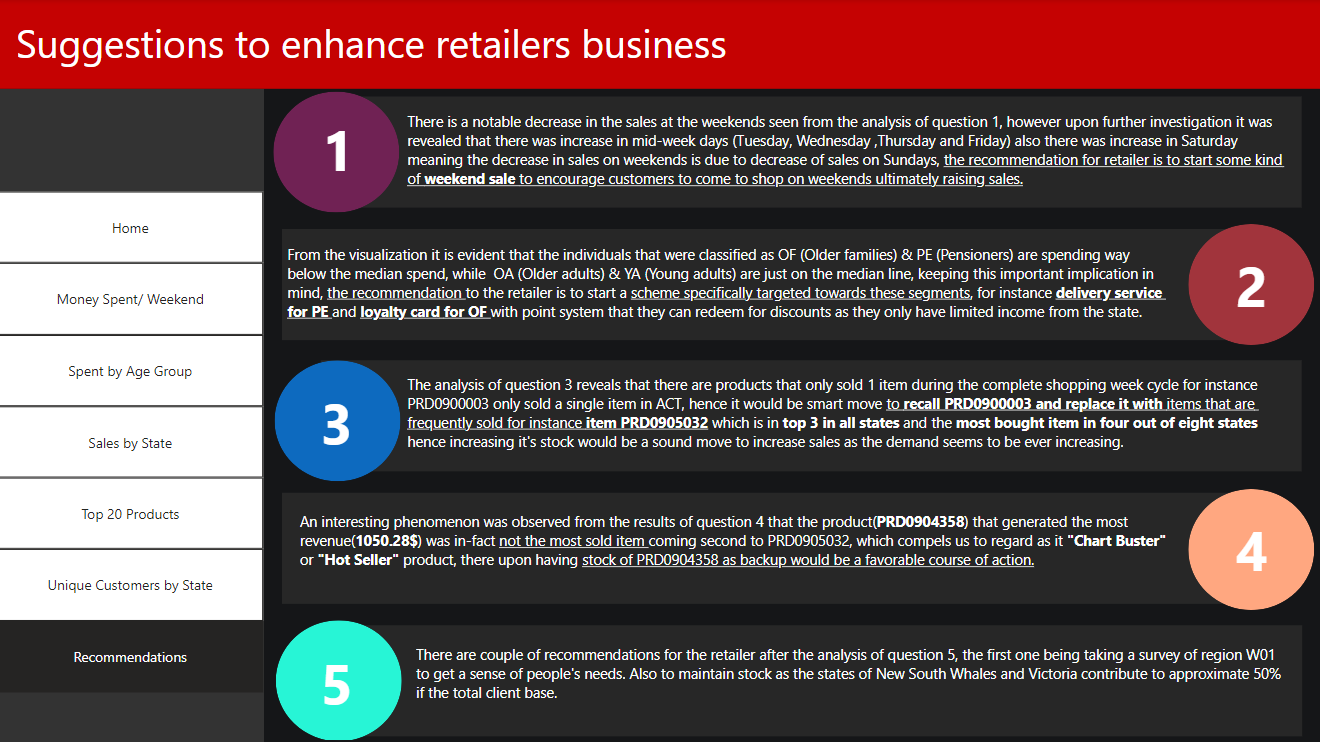

The dashboard page shown, as its layout file describes it:
{"tool":"powerbi","page":{"name":"Recommendations","canvas":[1280,720],"ordinal":6},"visuals":[{"type":"shape","box":[0,0,1279.9,86.8],"z":0},{"type":"shape","box":[0,86.8,257.9,633.2],"z":1000},{"type":"pageNavigator","box":[0,185.8,257.9,485.3],"z":2000},{"type":"textbox","box":[13.3,12.1,1245.8,74.8],"z":3000},{"type":"shape","box":[312.4,94.1,946.7,107.3],"z":4000},{"type":"shape","box":[275,221.9,947.9,107.3],"z":5000},{"type":"shape","box":[312.4,348.5,946.7,107.3],"z":6000},{"type":"shape","box":[328,604.2,931.1,107.3],"z":7000},{"type":"shape","box":[275,476.4,947.9,107.3],"z":8000},{"type":"shape","box":[266.5,89.2,121.8,117],"z":9000},{"type":"shape","box":[1149.3,217.1,121.8,117],"z":10000},{"type":"shape","box":[267.7,348.5,121.8,117],"z":11000},{"type":"shape","box":[1149.3,472.8,121.8,117],"z":12000},{"type":"shape","box":[268.9,599.4,121.8,117],"z":13000},{"type":"textbox","box":[390.8,103.7,856.3,85.6],"z":14000},{"type":"textbox","box":[275,231.6,863.5,89.2],"z":15000},{"type":"textbox","box":[390.8,357,856.3,90],"z":16000},{"type":"textbox","box":[287,489.6,851.5,85.6],"z":17000},{"type":"textbox","box":[399.2,617.5,847.8,82],"z":18000},{"type":"textbox","box":[287,103.7,84.4,82],"z":19000},{"type":"textbox","box":[285.8,617.5,84.4,82],"z":20000},{"type":"textbox","box":[1168.6,489.6,84.4,82],"z":21000},{"type":"textbox","box":[285.8,366.6,84.4,82],"z":22000},{"type":"textbox","box":[1168.6,235.2,84.4,82],"z":23000}]}

Visuals, with their boxes in screenshot pixels (x1, y1, x2, y2), scaled from the page's 1280x720 canvas onto the 1320x742 screenshot:
shape: <bbox>0, 0, 1319, 89</bbox>
shape: <bbox>0, 89, 266, 741</bbox>
pageNavigator: <bbox>0, 191, 266, 692</bbox>
textbox: <bbox>14, 12, 1298, 90</bbox>
shape: <bbox>322, 97, 1298, 208</bbox>
shape: <bbox>284, 229, 1261, 339</bbox>
shape: <bbox>322, 359, 1298, 470</bbox>
shape: <bbox>338, 623, 1298, 733</bbox>
shape: <bbox>284, 491, 1261, 602</bbox>
shape: <bbox>275, 92, 400, 213</bbox>
shape: <bbox>1185, 224, 1311, 344</bbox>
shape: <bbox>276, 359, 402, 480</bbox>
shape: <bbox>1185, 487, 1311, 608</bbox>
shape: <bbox>277, 618, 403, 738</bbox>
textbox: <bbox>403, 107, 1286, 195</bbox>
textbox: <bbox>284, 239, 1174, 331</bbox>
textbox: <bbox>403, 368, 1286, 461</bbox>
textbox: <bbox>296, 505, 1174, 593</bbox>
textbox: <bbox>412, 636, 1286, 721</bbox>
textbox: <bbox>296, 107, 383, 191</bbox>
textbox: <bbox>295, 636, 382, 721</bbox>
textbox: <bbox>1205, 505, 1292, 589</bbox>
textbox: <bbox>295, 378, 382, 462</bbox>
textbox: <bbox>1205, 242, 1292, 327</bbox>
